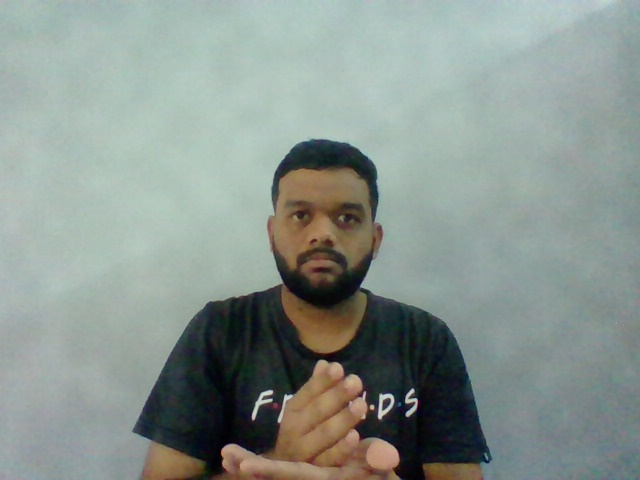Stop: (217, 355, 400, 480)
